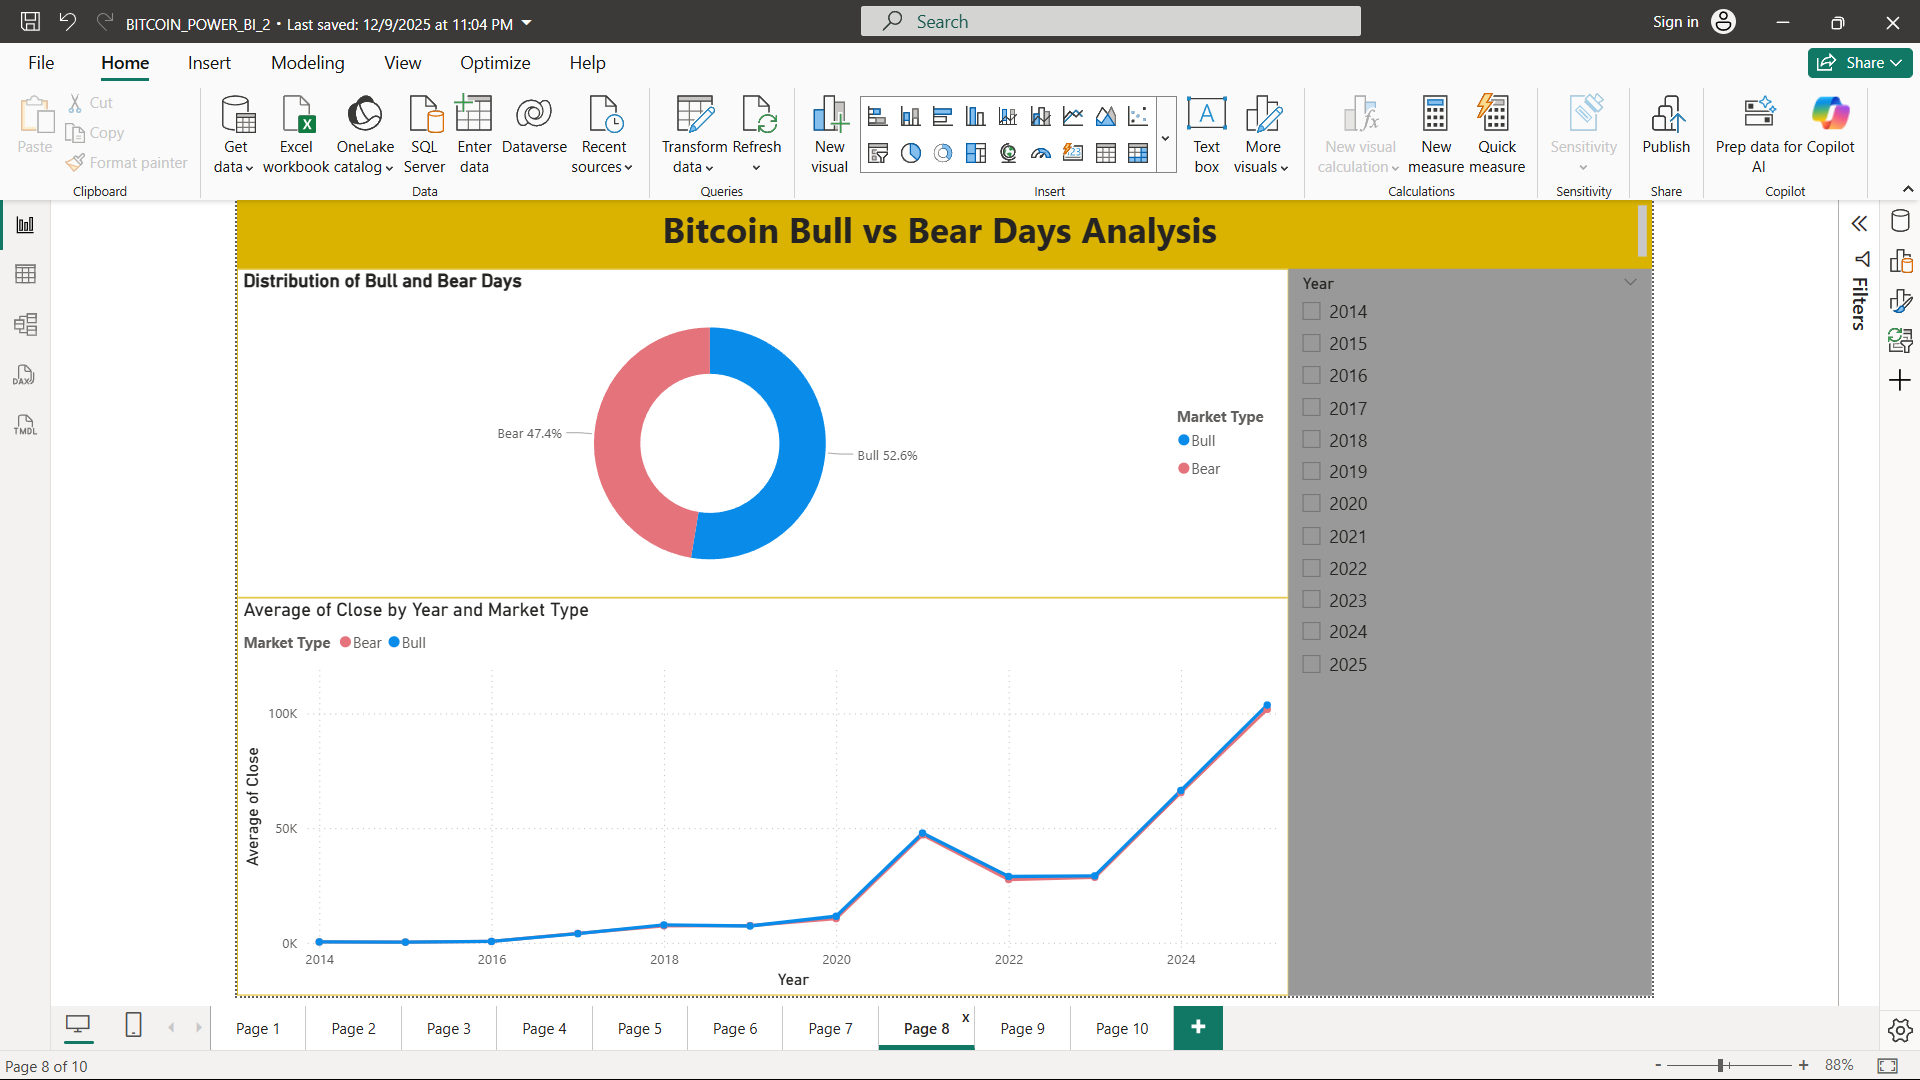

What the dashboard file says about the page in this screenshot:
{"tool":"powerbi","page":{"name":"Page 8","canvas":[1280,720],"ordinal":7},"visuals":[{"type":"textbox","box":[0,0,1280,62.5],"z":0},{"type":"donutChart","title":"Distribution of Bull and Bear Days","fields":{"Category":["bitcoin_data_2014_to_2025.Market Type"],"Y":["CountNonNull(bitcoin_data_2014_to_2025.Market Type)"]},"box":[0,62.5,951.2,297.5],"z":1000},{"type":"lineChart","fields":{"Category":["bitcoin_data_2014_to_2025.Date.Variation.Date Hierarchy.Year","bitcoin_data_2014_to_2025.Date.Variation.Date Hierarchy.Quarter","bitcoin_data_2014_to_2025.Date.Variation.Date Hierarchy.Month","bitcoin_data_2014_to_2025.Date.Variation.Date Hierarchy.Day"],"Y":["Avg(bitcoin_data_2014_to_2025.Close)"],"Series":["bitcoin_data_2014_to_2025.Market Type"]},"box":[0,360,951.2,360],"z":2000},{"type":"slicer","fields":{"Values":["bitcoin_data_2014_to_2025.Year"]},"box":[951.2,62.5,328.8,657.5],"z":3000}]}

Visuals, with their boxes on the page's 1280x720 design canvas (x1, y1, x2, y2). These are canvas units, not pixel positions in the 1920x1080 screenshot, which may show the page scaled, cropped or inside an application window:
textbox: 0:0:1280:62
"Distribution of Bull and Bear Days" donutChart: 0:62:951:360
lineChart - bitcoin_data_2014_to_2025.Date.Variation.Date Hierarchy.Year x bitcoin_data_2014_to_2025.Date.Variation.Date Hierarchy.Quarter: 0:360:951:720
slicer - bitcoin_data_2014_to_2025.Year: 951:62:1280:720
